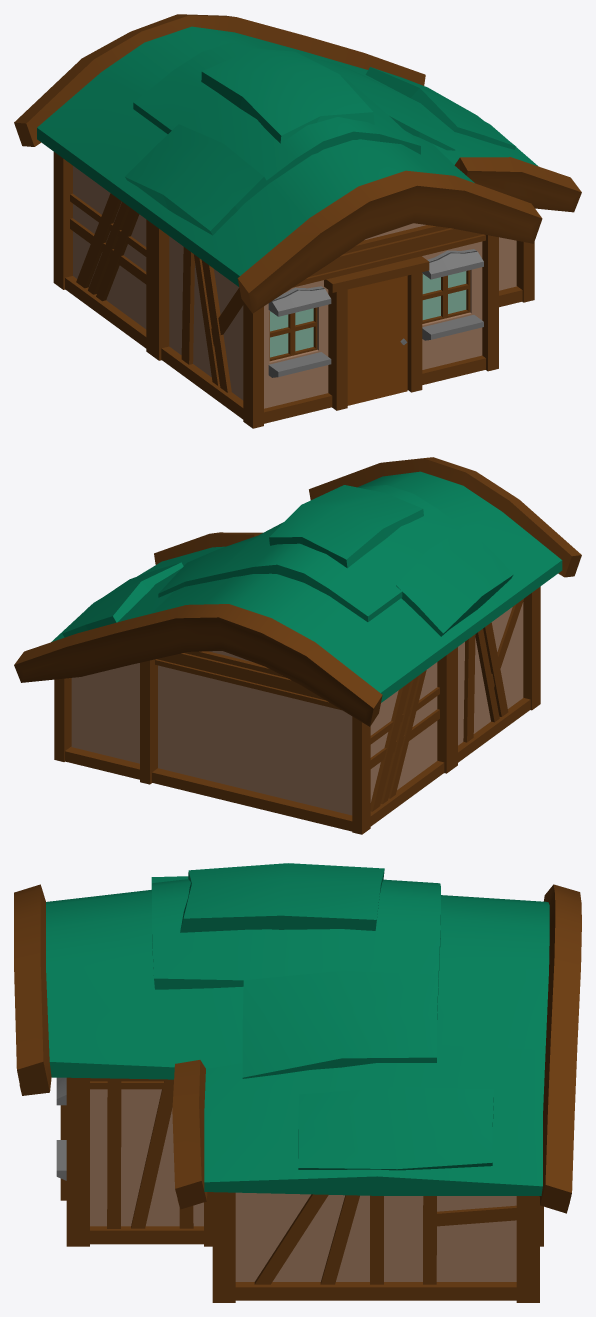
File: Mesh_House_Harbour_Mid.fbx
3 renders of one model, top to bottom at view 1: azimuth 30°, elevation 25°; view 2: azimuth 150°, elevation 25°; view 3: azimuth 270°, elevation 25°, orthographic. The views are drawn at different scales.
Visible parts, largest first — view 1: House_Harbour_Mid; view 2: House_Harbour_Mid; view 3: House_Harbour_Mid.
Part boxes in pixels (x1,y1,x2,y2): House_Harbour_Mid: (14, 14, 581, 428); House_Harbour_Mid: (14, 457, 581, 834); House_Harbour_Mid: (14, 863, 581, 1302).
Bounding box in the file's own units: 814 × 497 × 842.
Materials: 1 (1 with a texture image).
